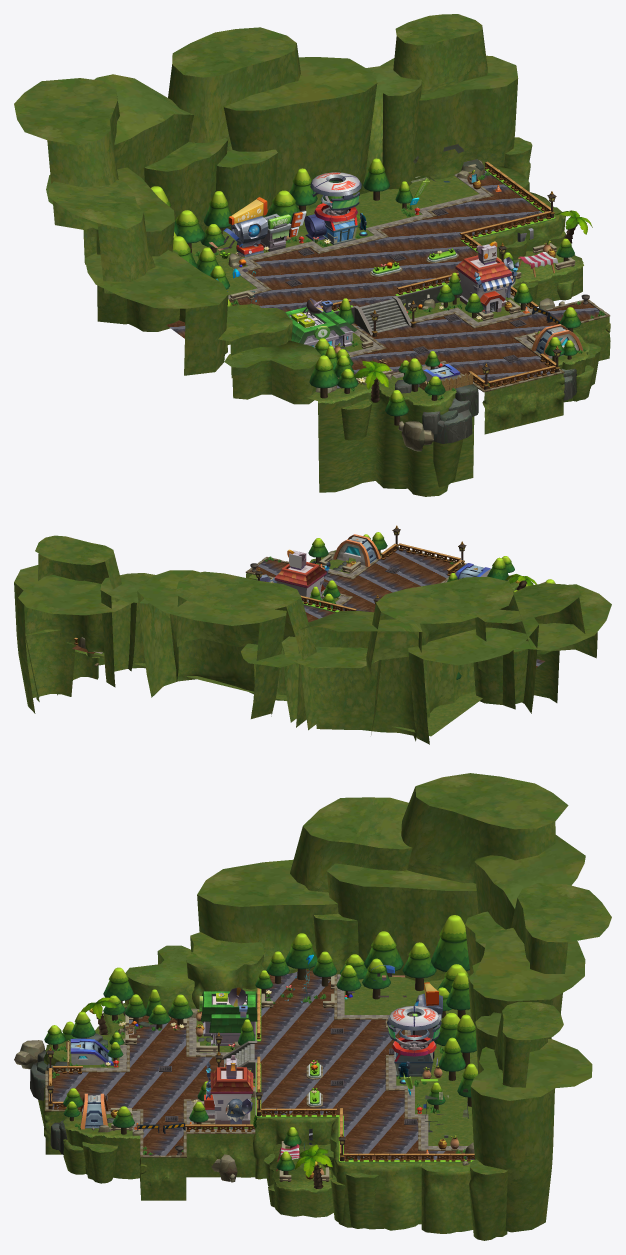
File: 02_02_Ngoai_Vi_Vien_Nghien_Cuu.glb
The picture shows the model from 3 angles, top to bottom: view 1: azimuth 30°, elevation 25°; view 2: azimuth 150°, elevation 25°; view 3: azimuth 270°, elevation 25°; orthographic projection. The views are drawn at different scales.
Visible parts, largest first — view 1: 02_02_Ngoai_Vi_Vien_Nghien_Cuu; view 2: 02_02_Ngoai_Vi_Vien_Nghien_Cuu; view 3: 02_02_Ngoai_Vi_Vien_Nghien_Cuu.
Boxes of the visible parts, bbox=[...] form: 02_02_Ngoai_Vi_Vien_Nghien_Cuu: bbox=[14, 14, 610, 496]; 02_02_Ngoai_Vi_Vien_Nghien_Cuu: bbox=[14, 525, 611, 744]; 02_02_Ngoai_Vi_Vien_Nghien_Cuu: bbox=[14, 773, 611, 1240].
Bounding box in the file's own units: 98.04 × 46.38 × 93.57.
42 materials, 42 textured.
